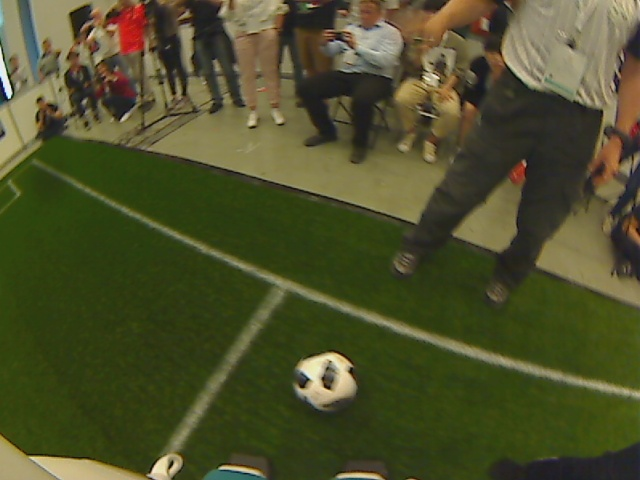ball: (291, 348, 359, 414)
